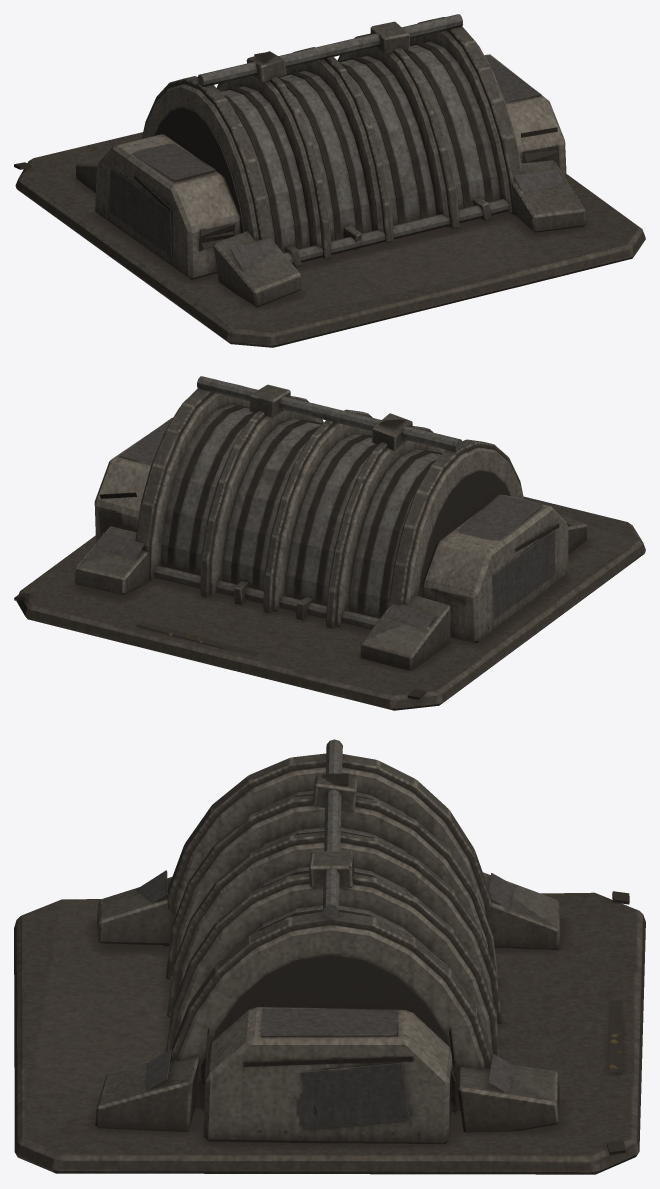
File: ord_advconverter_wreck.fbx
The picture shows the model from 3 angles, top to bottom: view 1: azimuth 30°, elevation 25°; view 2: azimuth 150°, elevation 25°; view 3: azimuth 270°, elevation 25°; orthographic projection. The views are drawn at different scales.
Visible parts, largest first — view 1: base_bar, coil_bar; view 2: base_bar, coil_bar; view 3: base_bar, coil_bar.
Part boxes in pixels (x1,y1,x2,y2): base_bar: (14,14,645,347); coil_bar: (220,41,500,252); base_bar: (14,376,645,710); coil_bar: (160,404,442,618); base_bar: (14,739,645,1174); coil_bar: (233,790,414,949).
Bounding box in the file's own units: 2361 × 1111 × 2349.
Materials: 2 (2 with a texture image).
